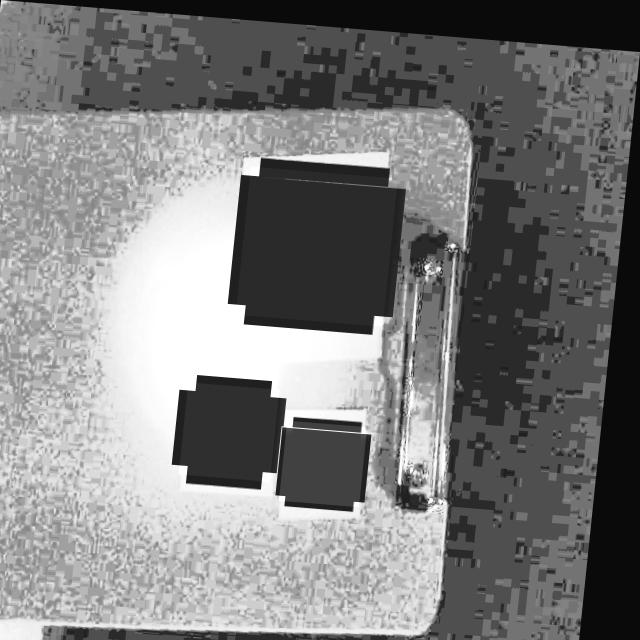qr_code: (241, 162, 400, 319), (188, 378, 286, 476), (288, 415, 375, 501)
